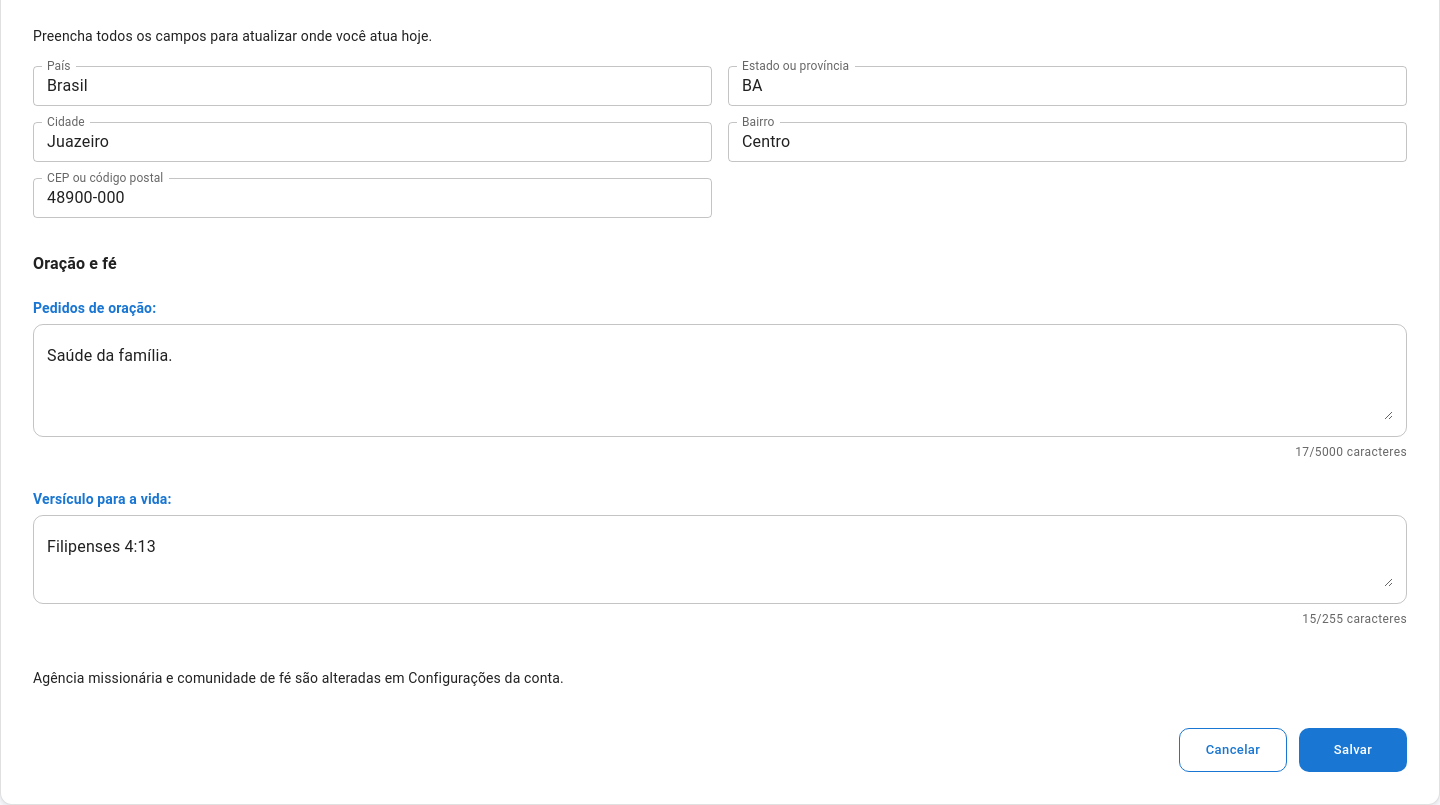
Test: ProfileAboutEditSection › maps backend field errors onto the matching inputs
(page scrolled)
Type "!" into the text box labelled "Versículo para a vida:" at (720,559), box x1=47 y1=531 x2=1393 y2=587
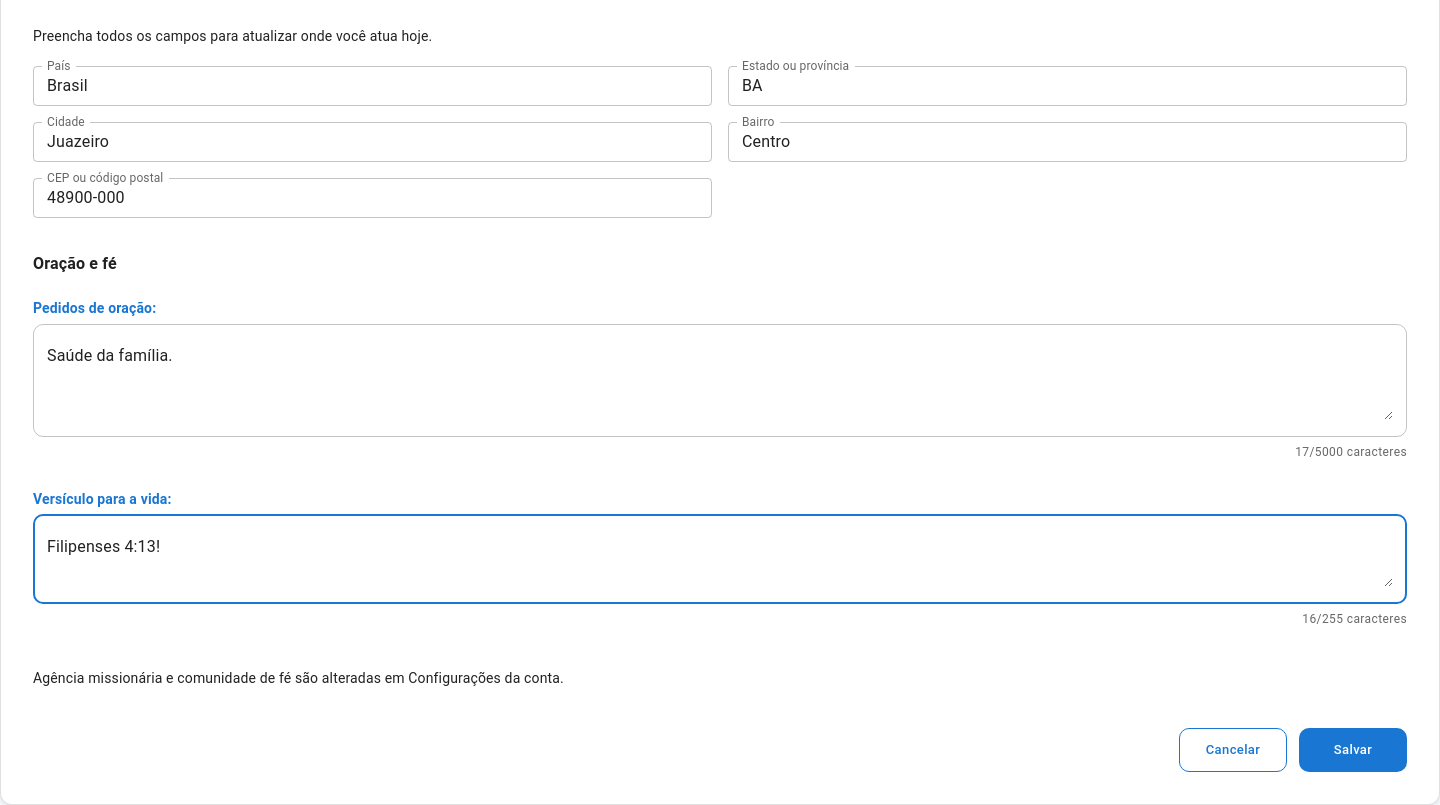
Click the button "Salvar" at (1353,750), box x1=1299 y1=728 x2=1407 y2=772
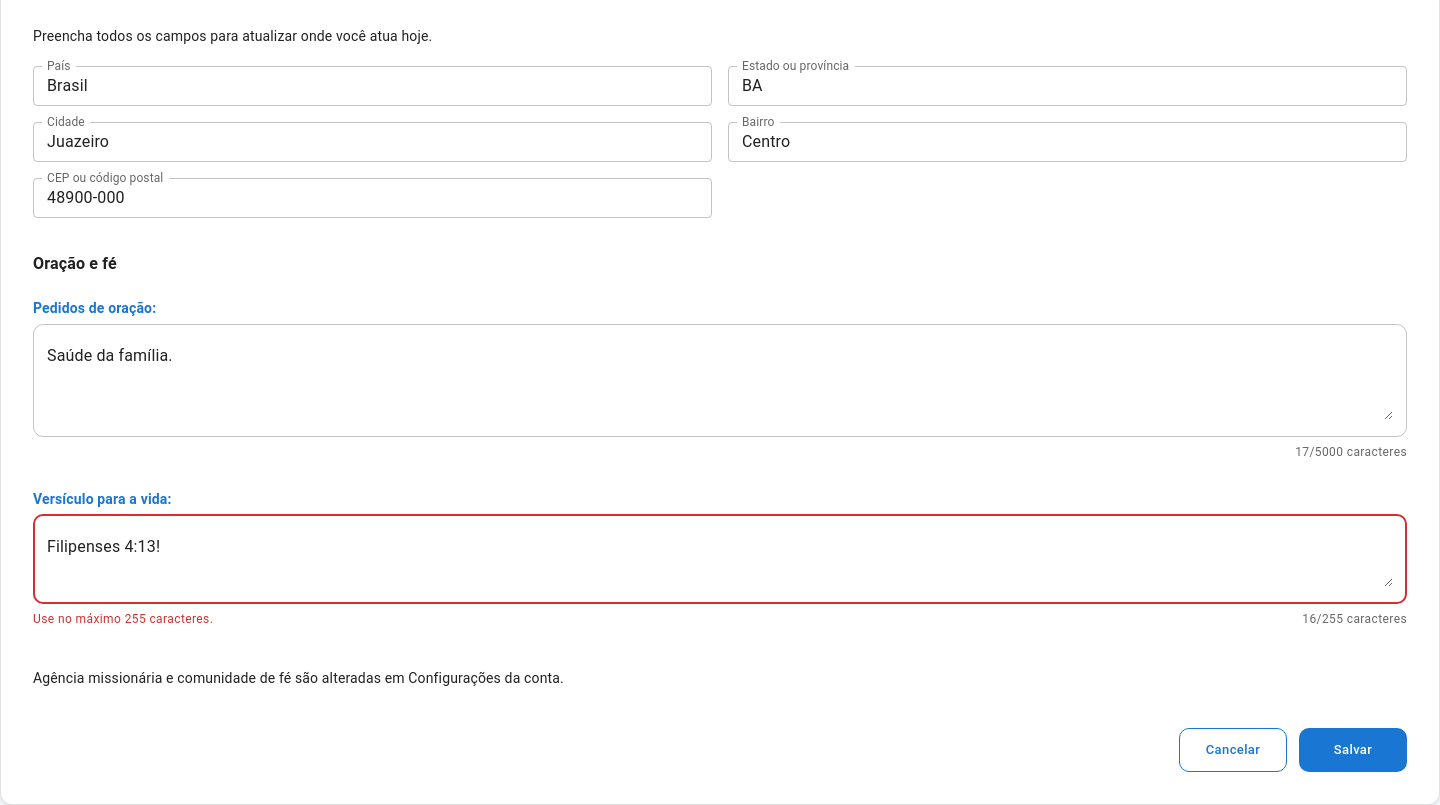
Expected: the text "Use no máximo 255 caracteres." is shown, x1=33 y1=610 x2=213 y2=630
